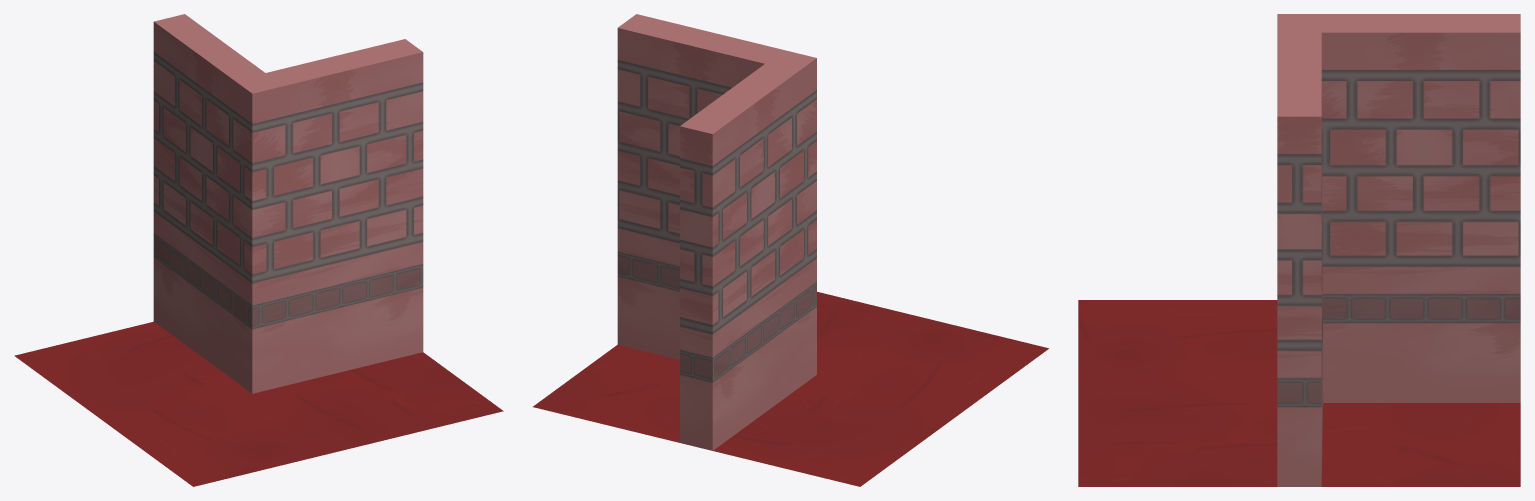
Rendered from WallCorner.fbx.
3 renders of one model, left to right at view 1: azimuth 30°, elevation 25°; view 2: azimuth 150°, elevation 25°; view 3: azimuth 270°, elevation 25°, orthographic. The views are drawn at different scales.
Visible parts, largest first — view 1: Wall_Corner; view 2: Wall_Corner; view 3: Wall_Corner.
Part boxes in pixels (left/top/right/bottom): Wall_Corner: left=14, top=14, right=503, bottom=486; Wall_Corner: left=533, top=14, right=1048, bottom=486; Wall_Corner: left=1078, top=14, right=1520, bottom=486.
Bounding box in the file's own units: 297 × 275 × 297.
